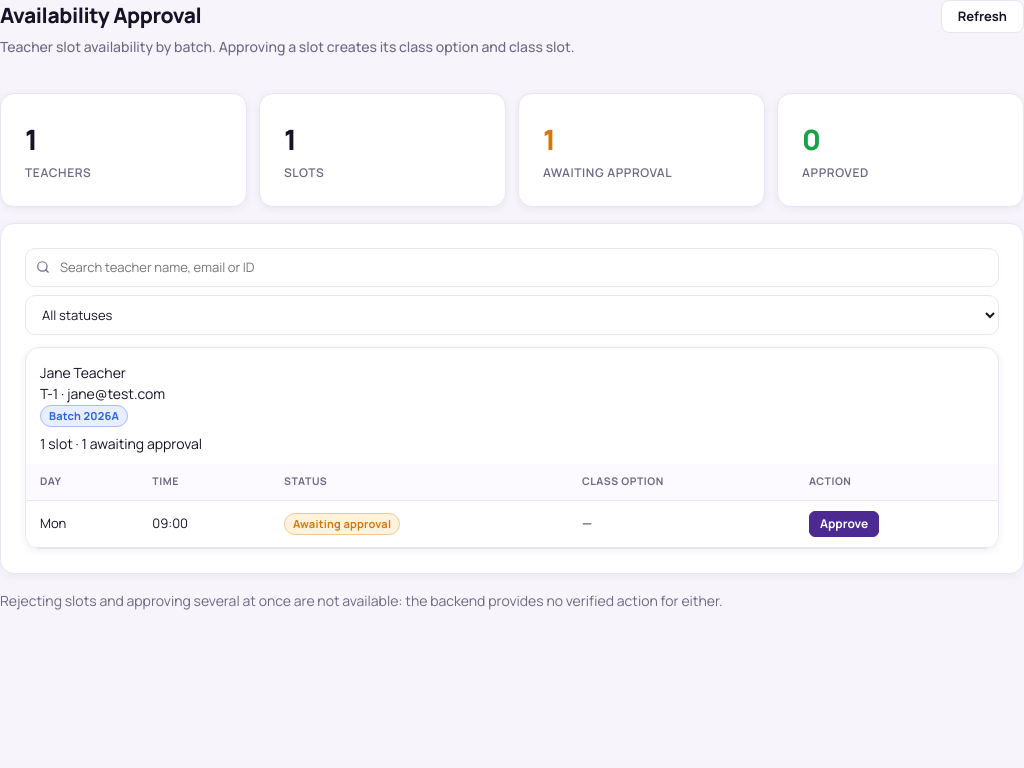
Test: AvailabilityApprovalPage approval wiring (flag enabled for this test only) › keeps the confirmation open and shows the RPC error when approval is refused
The width and height of the screenshot is (1024, 768).
Expected: the text "Batch 2026A" is shown, x1=40 y1=405 x2=128 y2=427
Step 1. Click the button with aria-label "Approve Mon 09:00 for Jane Teacher" → (844, 524), box x1=809 y1=511 x2=879 y2=537
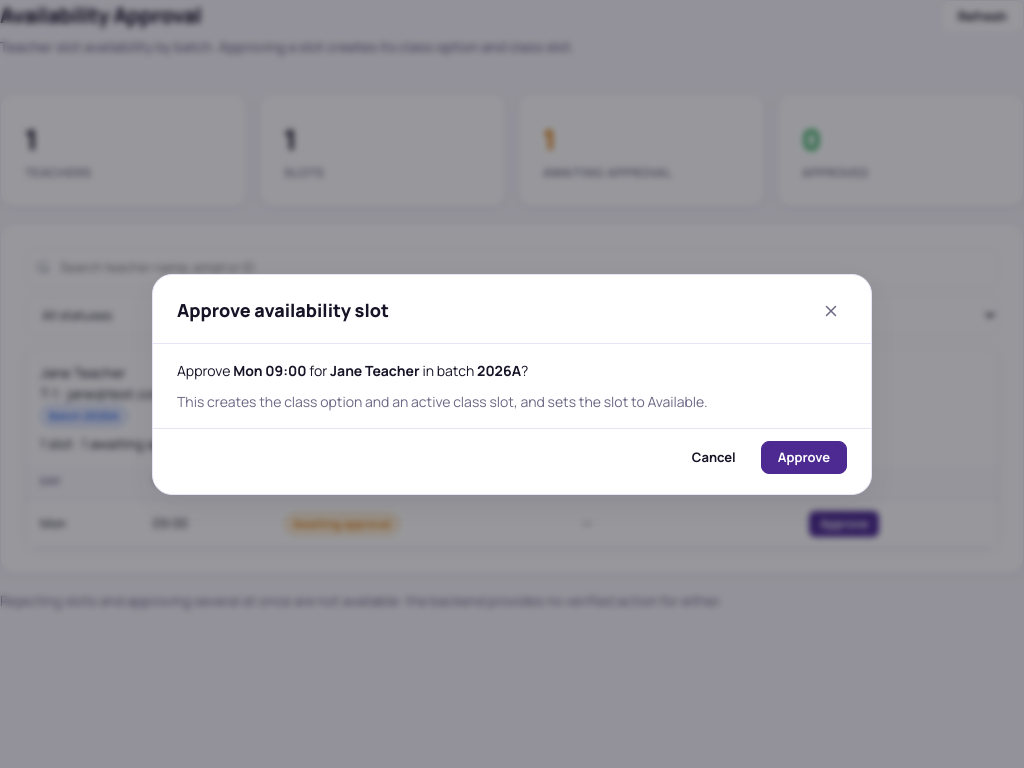
Step 2. Click the button "Approve" → (804, 457), box x1=761 y1=440 x2=847 y2=474
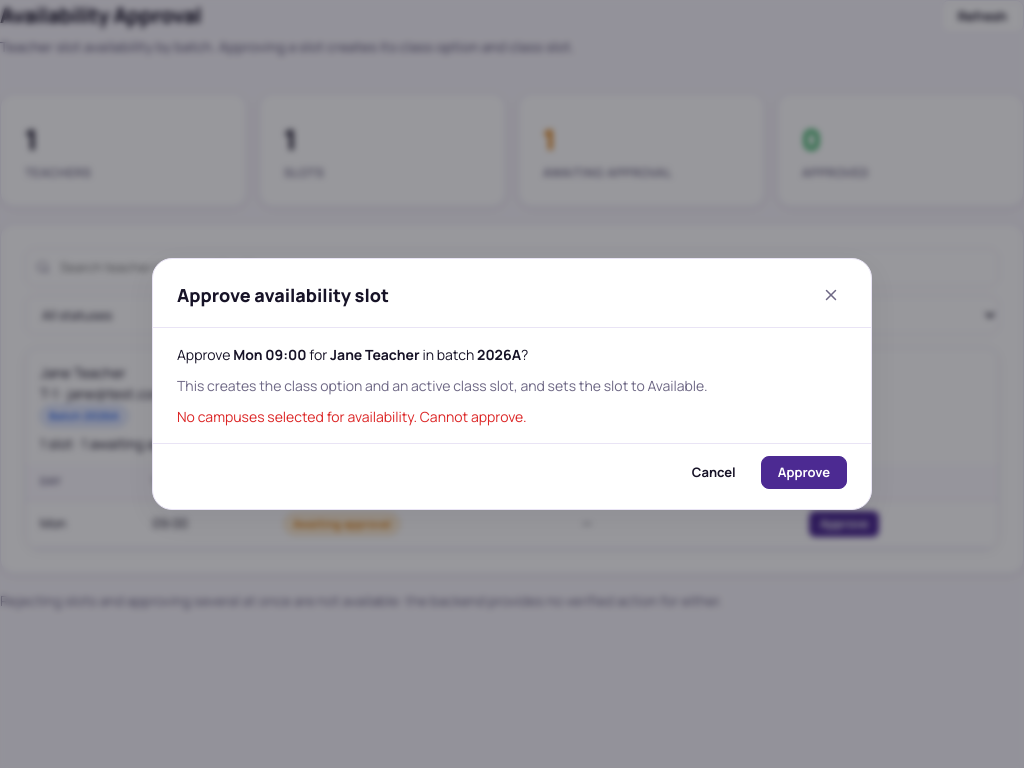
Expected: the message reads "No campuses selected for availability. Cannot approve.", x1=177 y1=407 x2=526 y2=426
